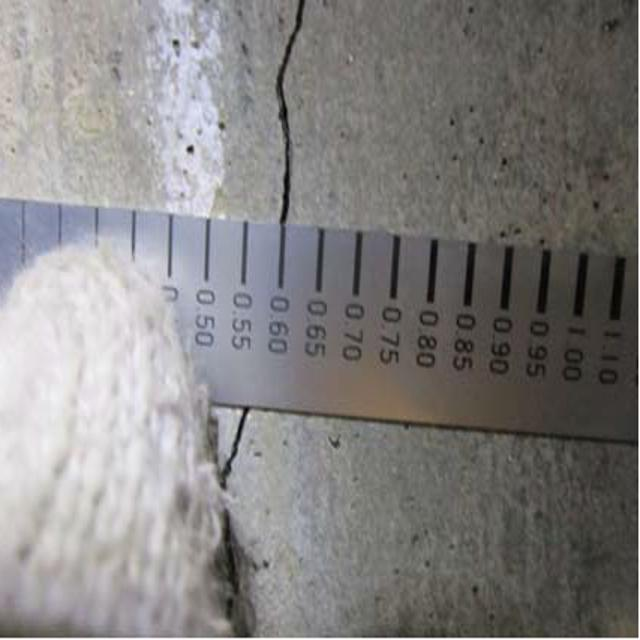crack: (188, 396, 268, 628), (260, 2, 323, 232)
